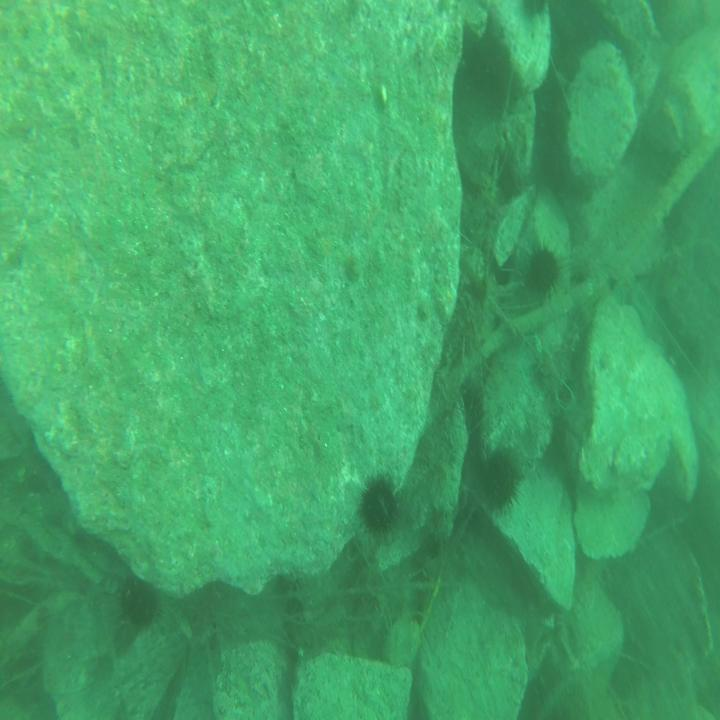echinus: (358, 467, 406, 545), (519, 238, 565, 314), (115, 567, 163, 634), (480, 449, 520, 522), (518, 0, 547, 25)
